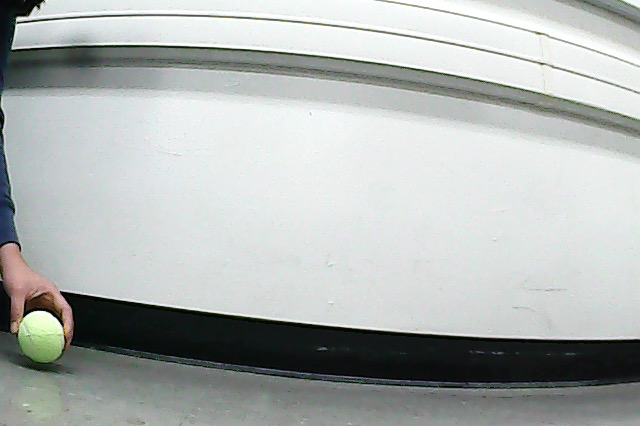ball: (18, 311, 68, 365)
